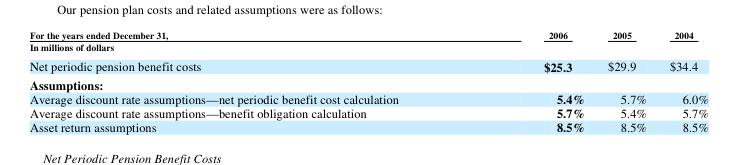table: (28, 29, 707, 133)
table column: (28, 29, 470, 133), (470, 29, 595, 133), (595, 29, 657, 133), (657, 29, 707, 133)
table column header: (28, 29, 707, 40)
table projected row header: (28, 75, 707, 91), (28, 40, 707, 55)
table row: (28, 55, 707, 75), (28, 75, 707, 91), (28, 40, 707, 55), (28, 91, 707, 105), (28, 105, 707, 119), (28, 119, 707, 133), (28, 29, 707, 40)
